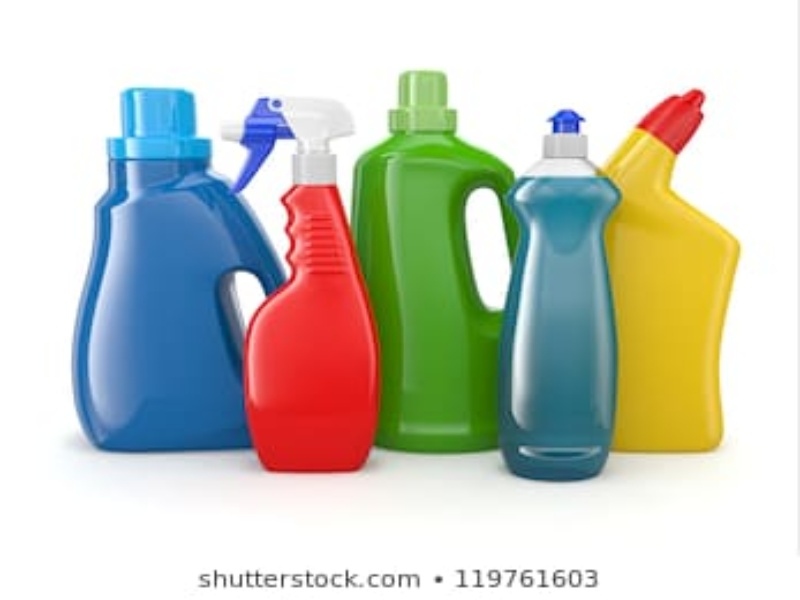bottle-cap: (98, 87, 217, 160), (379, 71, 459, 136)
detergent-bottle: (66, 83, 299, 459), (354, 67, 539, 456), (557, 84, 743, 454), (214, 89, 379, 473), (501, 105, 619, 483)
